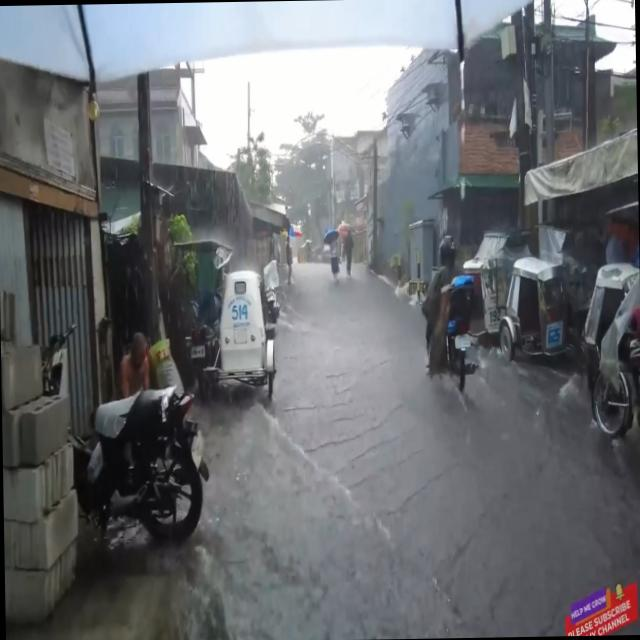half: (437, 234, 458, 267)
